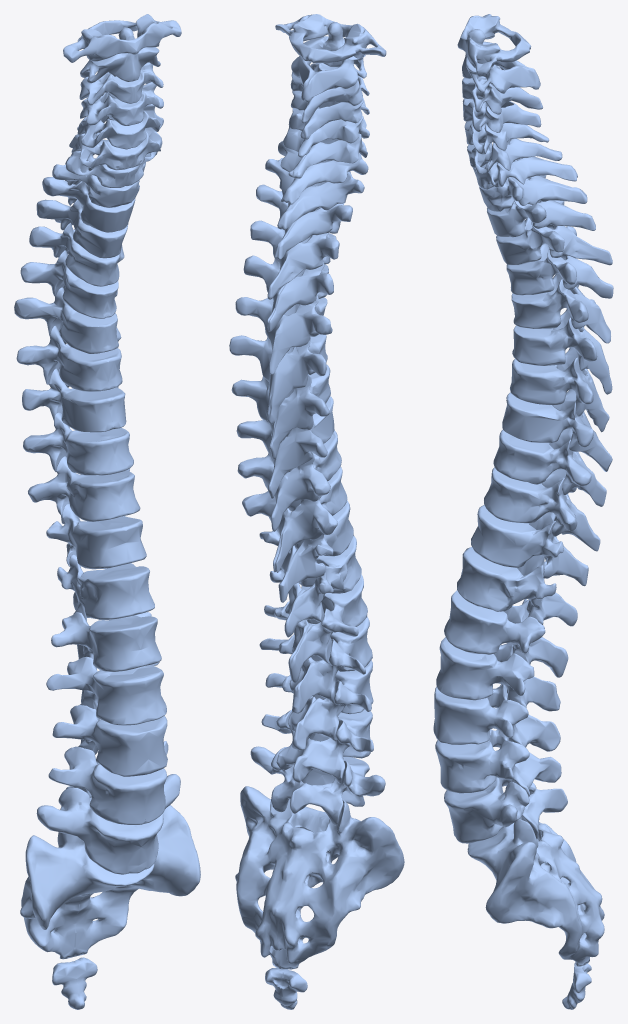
Rendered from spine.glb.
3 renders of one model, left to right at view 1: azimuth 30°, elevation 25°; view 2: azimuth 150°, elevation 25°; view 3: azimuth 270°, elevation 25°, orthographic. The views are drawn at different scales.
Parts seen in each view (by area): view 1: Sacrum, Vertebra_L5, Vertebra_L2, Vertebra_L4, Vertebra_L3, Vertebra_L1, Vertebra_T12, Vertebra_T10, Vertebra_T11, Vertebra_T9, Vertebra_T7, Vertebra_T8 (+14 smaller); view 2: Sacrum, Vertebra_L5, Vertebra_L4, Vertebra_L2, Vertebra_L1, Vertebra_L3, Vertebra_T10, Vertebra_T6, Vertebra_T9, Vertebra_T7, Vertebra_T12, Vertebra_T8 (+14 smaller); view 3: Sacrum, Vertebra_L2, Vertebra_L1, Vertebra_L3, Vertebra_T12, Vertebra_L4, Vertebra_L5, Vertebra_T11, Vertebra_T10, Vertebra_T9, Vertebra_T8, Vertebra_T7 (+14 smaller).
Part boxes in pixels (box(x1,y1,x2,y2)): Sacrum: box(20, 805, 200, 959); Vertebra_L5: box(36, 774, 180, 874); Vertebra_L2: box(46, 656, 166, 725); Vertebra_L4: box(48, 741, 168, 824); Vertebra_L3: box(52, 705, 167, 776); Vertebra_L1: box(51, 612, 161, 671); Vertebra_T12: box(57, 554, 154, 621); Vertebra_T10: box(28, 456, 140, 523); Vertebra_T11: box(46, 504, 146, 569); Vertebra_T9: box(23, 412, 133, 475); Vertebra_T7: box(16, 325, 122, 391); Vertebra_T8: box(22, 368, 126, 432); Sacrum: box(235, 786, 404, 969); Vertebra_L5: box(250, 746, 385, 825); Vertebra_L4: box(261, 709, 373, 783); Vertebra_L2: box(259, 616, 372, 713); Vertebra_L1: box(264, 574, 367, 682); Vertebra_L3: box(265, 660, 373, 750); Vertebra_T10: box(242, 466, 347, 572); Vertebra_T6: box(229, 334, 327, 424); Vertebra_T9: box(237, 430, 341, 531); Vertebra_T7: box(231, 364, 330, 458); Vertebra_T12: box(269, 535, 361, 637); Vertebra_T8: box(236, 396, 334, 499); Sacrum: box(467, 782, 604, 966); Vertebra_L2: box(436, 637, 560, 711); Vertebra_L1: box(444, 590, 568, 677); Vertebra_L3: box(433, 684, 560, 751); Vertebra_T12: box(457, 547, 577, 626); Vertebra_L4: box(435, 729, 561, 796); Vertebra_L5: box(444, 777, 567, 843); Vertebra_T11: box(471, 505, 588, 586); Vertebra_T10: box(484, 467, 600, 551); Vertebra_T9: box(493, 428, 606, 506); Vertebra_T8: box(502, 389, 612, 471); Vertebra_T7: box(510, 347, 609, 432).
Bounding box in the file's own units: 0.6466 × 3.8 × 0.6324.
